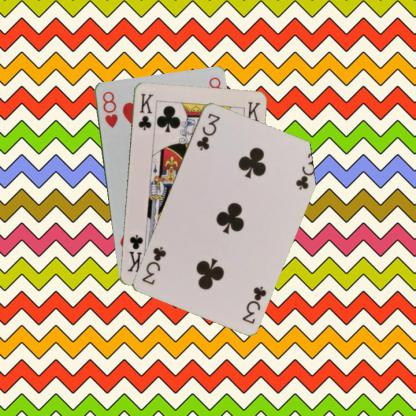3c: (239, 283, 268, 325), (194, 110, 221, 152)
8h: (99, 88, 119, 129)
Kc: (135, 90, 154, 132)
